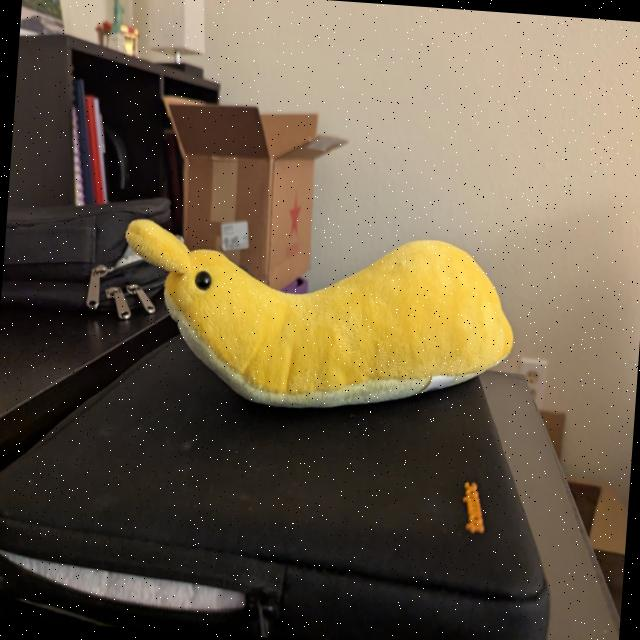banana-slug-toy: (110, 197, 543, 440)
